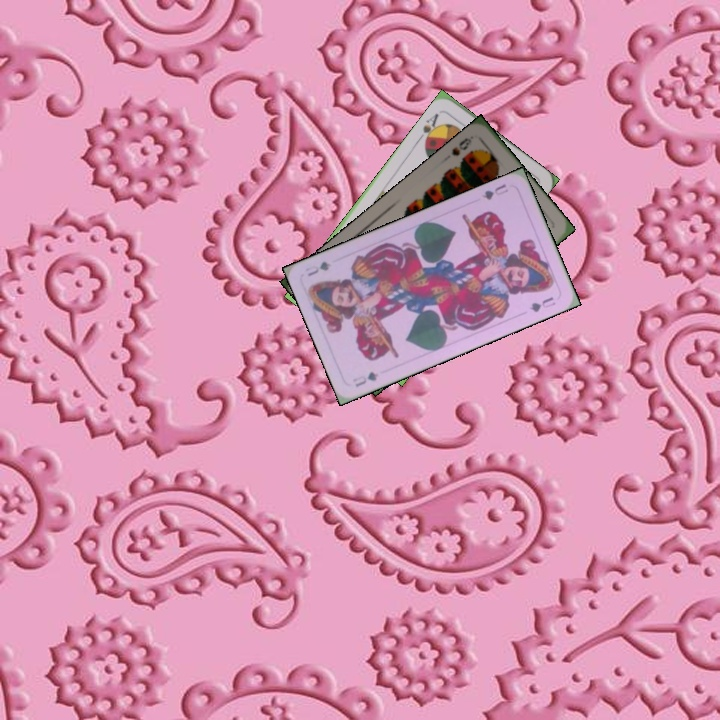GU: (478, 179, 511, 203), (349, 368, 381, 389)
S8: (447, 132, 476, 159)
SA: (415, 109, 443, 146)
